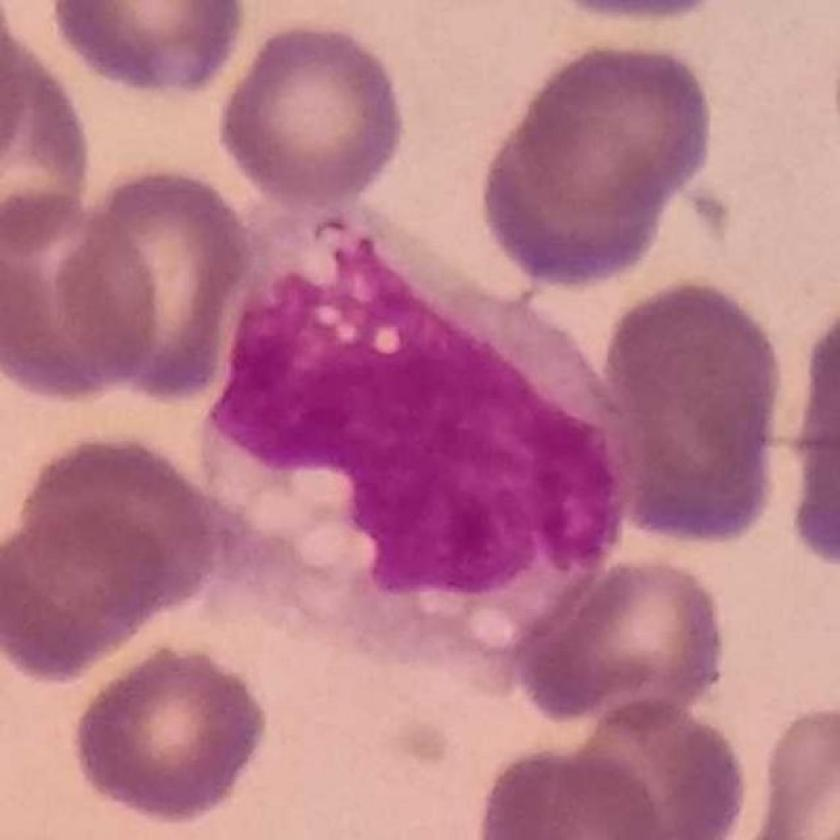monocyte: (189, 175, 639, 700)
